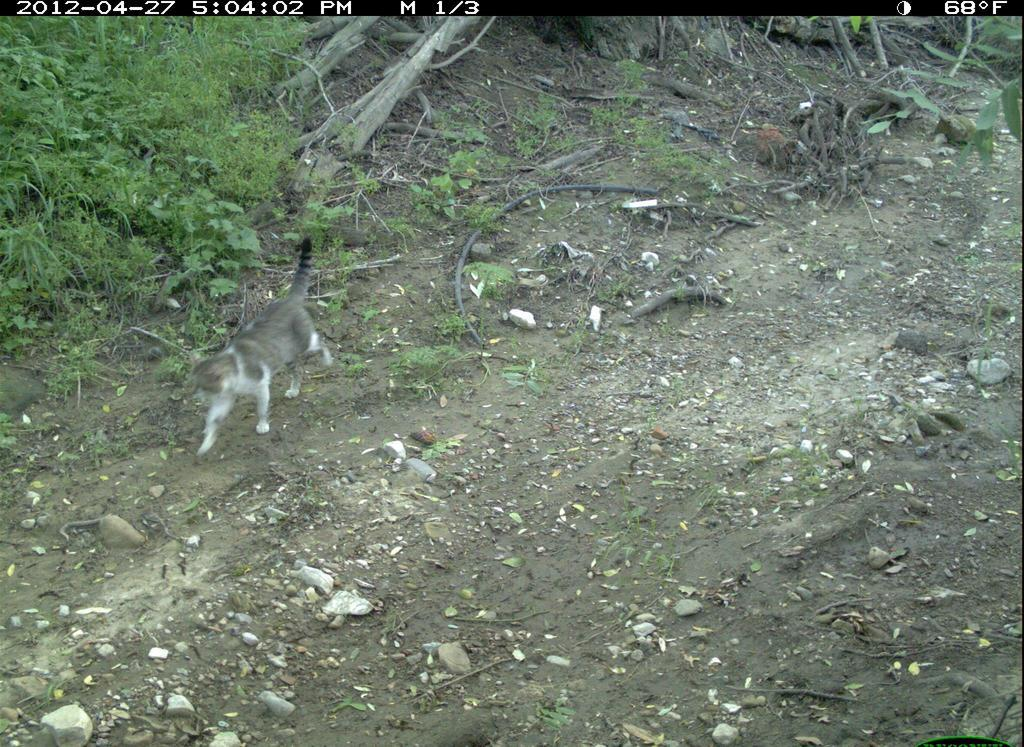cat: (168, 230, 346, 465)
